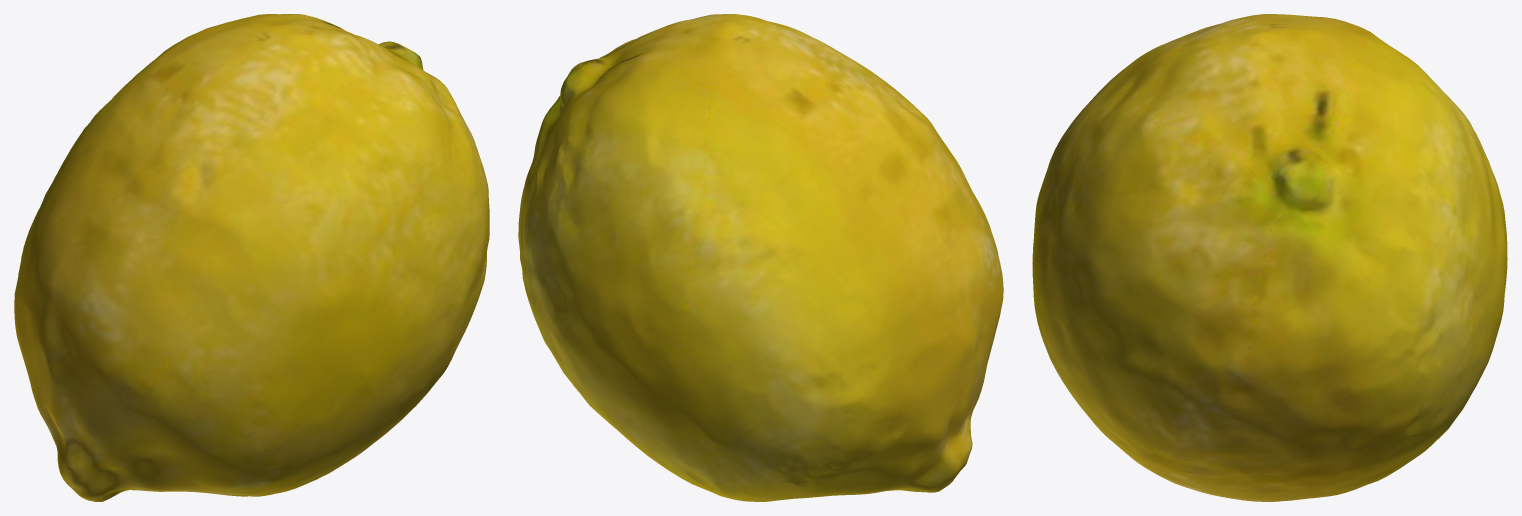
Rendered from ddg-ycb_014_lemon.glb.
The picture shows the model from 3 angles, left to right: view 1: azimuth 30°, elevation 25°; view 2: azimuth 150°, elevation 25°; view 3: azimuth 270°, elevation 25°; orthographic projection. The views are drawn at different scales.
Visible parts, largest first — view 1: textured(Clone); view 2: textured(Clone); view 3: textured(Clone).
Boxes of the visible parts, x1=… form: textured(Clone): x1=14, y1=14, x2=489, y2=501; textured(Clone): x1=518, y1=14, x2=1003, y2=501; textured(Clone): x1=1032, y1=14, x2=1507, y2=501.
Size of the model in its own units: 1.62 by 1.59 by 1.42.
1 material, 1 textured.
